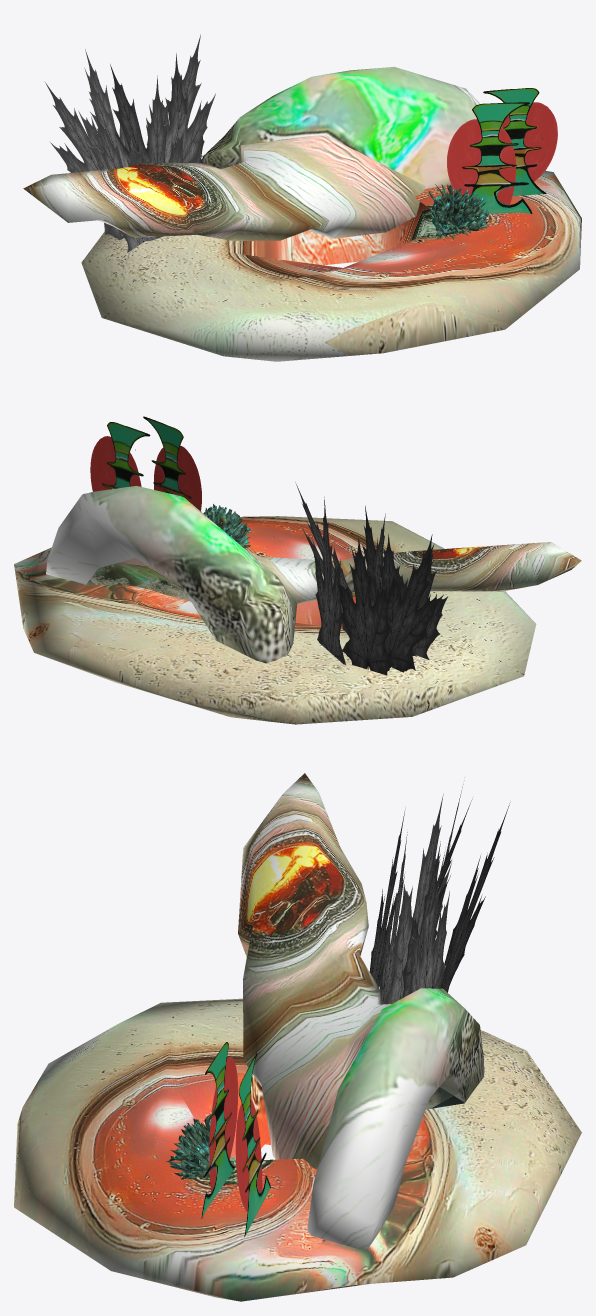
The picture shows the model from 3 angles, top to bottom: view 1: azimuth 30°, elevation 25°; view 2: azimuth 150°, elevation 25°; view 3: azimuth 270°, elevation 25°; orthographic projection. The views are drawn at different scales.
Parts seen in each view (by area): view 1: MSH_Base_08_Main, MSH_Base08_Rock, MSh_Base08_Toon.001, MSh_Base08_Toon, MSH_Base08_Leaves.003, MSH_Base08_Coral, MSH_Base08_Leaves.007, MSH_Base08_Leaves, MSH_Base08_Leaves.005, MSH_Base08_Leaves.001, MSH_Base08_Leaves.002, MSH_Base08_Leaves.004 (+1 smaller); view 2: MSH_Base_08_Main, MSH_Base08_Rock, MSH_Base08_Leaves.006, MSH_Base08_Leaves.007, MSh_Base08_Toon, MSh_Base08_Toon.001, MSH_Base08_Leaves.004, MSH_Base08_Leaves.002, MSH_Base08_Coral, MSH_Base08_Leaves.003, MSH_Base08_Leaves.001, MSH_Base08_Leaves.005 (+1 smaller); view 3: MSH_Base_08_Main, MSH_Base08_Rock, MSh_Base08_Toon.001, MSh_Base08_Toon, MSH_Base08_Leaves.005, MSH_Base08_Leaves.004, MSH_Base08_Leaves.006, MSH_Base08_Coral, MSH_Base08_Leaves.002, MSH_Base08_Leaves.003, MSH_Base08_Leaves.
Boxes of the visible parts, box(x1,y1,x2,y2) form: MSH_Base_08_Main: box(81, 170, 581, 361); MSH_Base08_Rock: box(23, 66, 479, 240); MSh_Base08_Toon.001: box(447, 102, 542, 213); MSh_Base08_Toon: box(483, 88, 557, 195); MSH_Base08_Leaves.003: box(146, 34, 215, 162); MSH_Base08_Coral: box(428, 184, 488, 240); MSH_Base08_Leaves.007: box(44, 81, 124, 240); MSH_Base08_Leaves: box(130, 75, 184, 164); MSH_Base08_Leaves.005: box(110, 64, 165, 162); MSH_Base08_Leaves.001: box(84, 67, 130, 235); MSH_Base08_Leaves.002: box(92, 105, 162, 252); MSH_Base08_Leaves.004: box(149, 53, 205, 162); MSH_Base_08_Main: box(14, 516, 536, 724); MSH_Base08_Rock: box(46, 486, 581, 663); MSH_Base08_Leaves.006: box(335, 536, 396, 675); MSH_Base08_Leaves.007: box(384, 543, 443, 672); MSh_Base08_Toon: box(90, 422, 160, 491); MSh_Base08_Toon.001: box(135, 416, 201, 511); MSH_Base08_Leaves.004: box(314, 497, 346, 665); MSH_Base08_Leaves.002: box(397, 534, 447, 659); MSH_Base08_Coral: box(201, 504, 250, 547); MSH_Base08_Leaves.003: box(295, 482, 353, 637); MSH_Base08_Leaves.001: box(366, 533, 416, 656); MSH_Base08_Leaves.005: box(367, 513, 389, 592); MSH_Base_08_Main: box(14, 998, 581, 1301); MSH_Base08_Rock: box(238, 773, 484, 1249); MSh_Base08_Toon.001: box(199, 1042, 238, 1218); MSh_Base08_Toon: box(235, 1053, 270, 1237); MSH_Base08_Leaves.005: box(382, 793, 451, 1004); MSH_Base08_Leaves.004: box(407, 839, 449, 994); MSH_Base08_Leaves.006: box(439, 802, 510, 992); MSH_Base08_Coral: box(166, 1114, 237, 1179); MSH_Base08_Leaves.002: box(369, 809, 405, 987); MSH_Base08_Leaves.003: box(401, 841, 446, 998); MSH_Base08_Leaves: box(379, 832, 407, 1004).
Size of the model in its own units: 2793 by 1212 by 1927.
